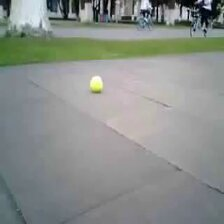tennis: (89, 75, 104, 93)
